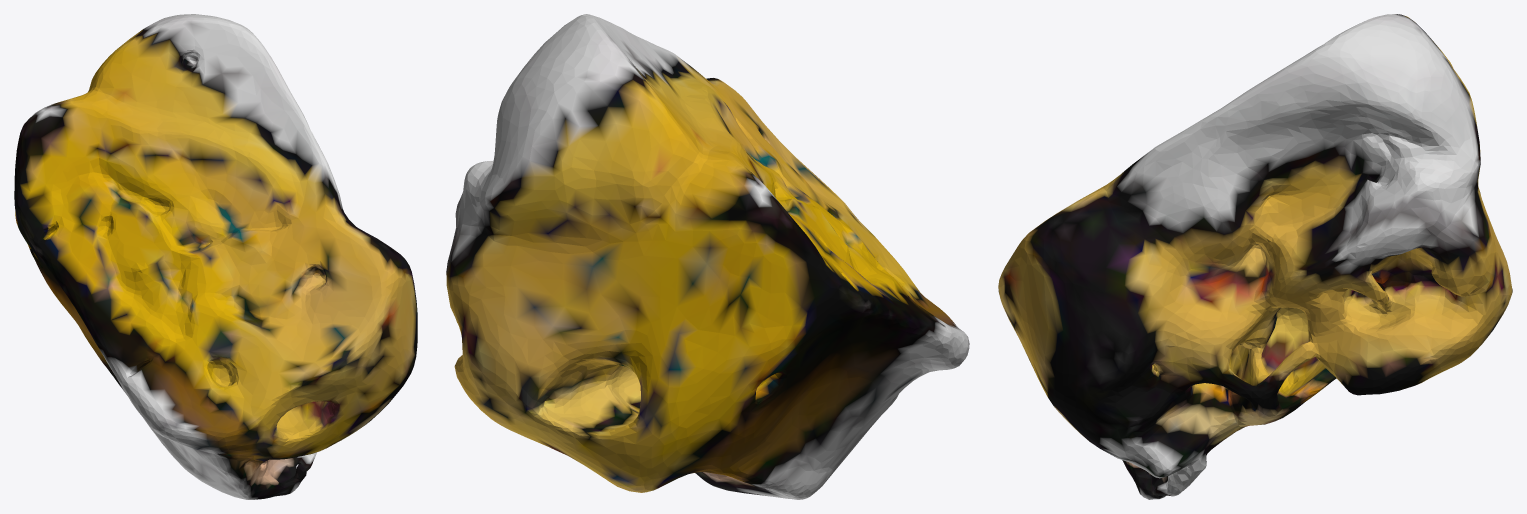
File: waybread.glb
The picture shows the model from 3 angles, left to right: view 1: azimuth 30°, elevation 25°; view 2: azimuth 150°, elevation 25°; view 3: azimuth 270°, elevation 25°; orthographic projection. The views are drawn at different scales.
Visible parts, largest first — view 1: geometry_0; view 2: geometry_0; view 3: geometry_0.
Part boxes in pixels (box(x1,y1,x2,y2)): geometry_0: box(14, 14, 417, 499); geometry_0: box(446, 14, 969, 499); geometry_0: box(998, 14, 1512, 499).
Bounding box in the file's own units: 0.4299 × 0.5938 × 0.5788.
